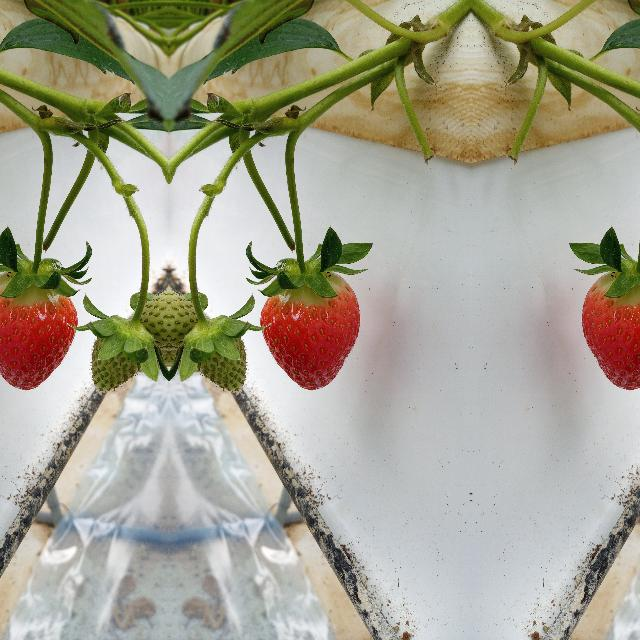Health_100: (258, 273, 360, 392), (0, 272, 78, 391), (581, 272, 640, 391)
Health_25: (185, 314, 255, 398), (81, 314, 151, 398)
